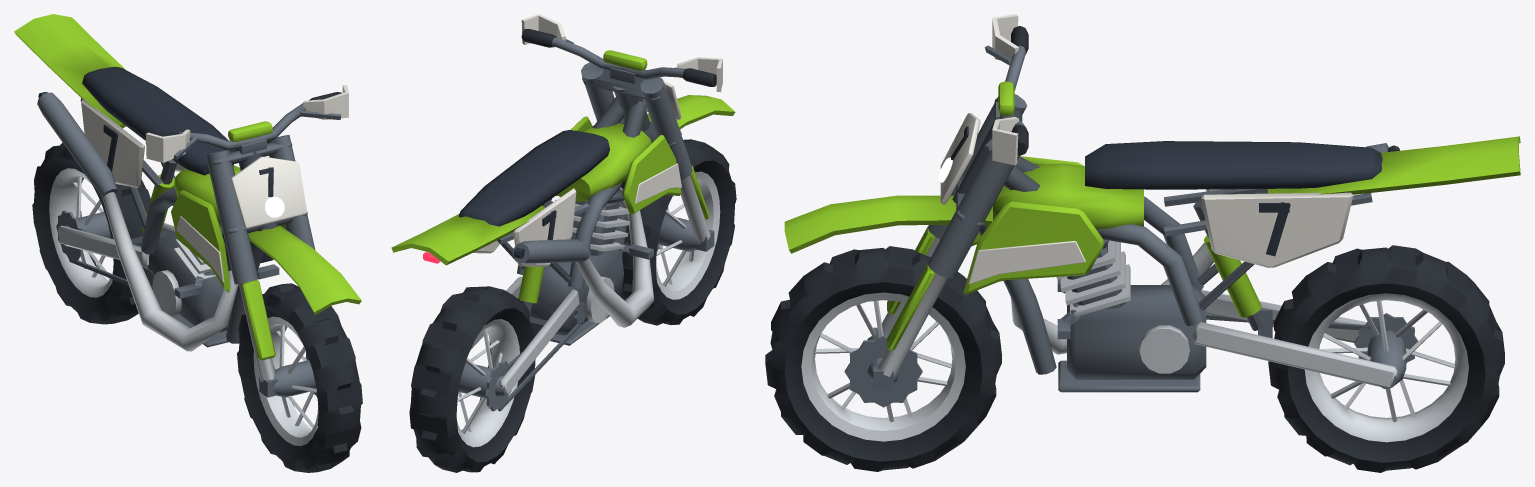
The model's file is motorcycle.glb.
3 renders of one model, left to right at view 1: azimuth 30°, elevation 25°; view 2: azimuth 150°, elevation 25°; view 3: azimuth 270°, elevation 25°, orthographic. The views are drawn at different scales.
Visible parts, largest first — view 1: Trail 250 Gunmetal, Trail 250 Race lime, Front wheel Trail rubber, Trail 250 Cloud white, Trail 250 Chrome alloy, Trail 250 Graphite, Rear wheel Trail rubber, Rear wheel Chrome alloy, Front wheel Chrome alloy, Front wheel Gunmetal, Rear wheel Gunmetal; view 2: Trail 250 Gunmetal, Rear wheel Trail rubber, Trail 250 Race lime, Trail 250 Chrome alloy, Trail 250 Graphite, Front wheel Trail rubber, Trail 250 Cloud white, Rear wheel Chrome alloy, Front wheel Chrome alloy, Rear wheel Gunmetal, Front wheel Gunmetal, Trail 250 Trail rubber; view 3: Trail 250 Gunmetal, Trail 250 Race lime, Rear wheel Trail rubber, Front wheel Trail rubber, Trail 250 Cloud white, Trail 250 Graphite, Trail 250 Chrome alloy, Rear wheel Chrome alloy, Front wheel Chrome alloy, Front wheel Gunmetal, Rear wheel Gunmetal.
Part boxes in pixels (<box>): Trail 250 Gunmetal: <box>37,92,341,397</box>; Trail 250 Race lime: <box>14,14,361,360</box>; Front wheel Trail rubber: <box>237,283,362,472</box>; Trail 250 Cloud white: <box>81,85,348,282</box>; Trail 250 Chrome alloy: <box>58,192,274,381</box>; Trail 250 Graphite: <box>38,66,273,270</box>; Rear wheel Trail rubber: <box>32,142,150,324</box>; Rear wheel Chrome alloy: <box>49,168,112,297</box>; Front wheel Chrome alloy: <box>253,316,318,445</box>; Front wheel Gunmetal: <box>272,351,317,397</box>; Rear wheel Gunmetal: <box>56,210,110,260</box>; Trail 250 Gunmetal: <box>497,37,714,411</box>; Rear wheel Trail rubber: <box>409,286,535,472</box>; Trail 250 Race lime: <box>391,50,735,303</box>; Trail 250 Chrome alloy: <box>470,175,710,396</box>; Trail 250 Graphite: <box>458,130,625,258</box>; Front wheel Trail rubber: <box>620,139,736,325</box>; Trail 250 Cloud white: <box>473,14,722,266</box>; Rear wheel Chrome alloy: <box>457,319,519,447</box>; Front wheel Chrome alloy: <box>656,171,720,299</box>; Rear wheel Gunmetal: <box>458,360,511,411</box>; Front wheel Gunmetal: <box>656,206,701,251</box>; Trail 250 Trail rubber: <box>521,29,716,86</box>; Trail 250 Gunmetal: <box>873,45,1388,392</box>; Trail 250 Race lime: <box>784,81,1520,350</box>; Rear wheel Trail rubber: <box>1268,245,1504,472</box>; Front wheel Trail rubber: <box>765,246,1001,471</box>; Trail 250 Cloud white: <box>940,14,1353,284</box>; Trail 250 Graphite: <box>951,126,1399,256</box>; Trail 250 Chrome alloy: <box>877,237,1397,387</box>; Rear wheel Chrome alloy: <box>1304,293,1468,442</box>; Front wheel Chrome alloy: <box>801,292,965,441</box>; Front wheel Gunmetal: <box>844,331,922,407</box>; Rear wheel Gunmetal: <box>1354,313,1418,388</box>.
Size of the model in its own units: 0.9721 by 1.46 by 2.55.
